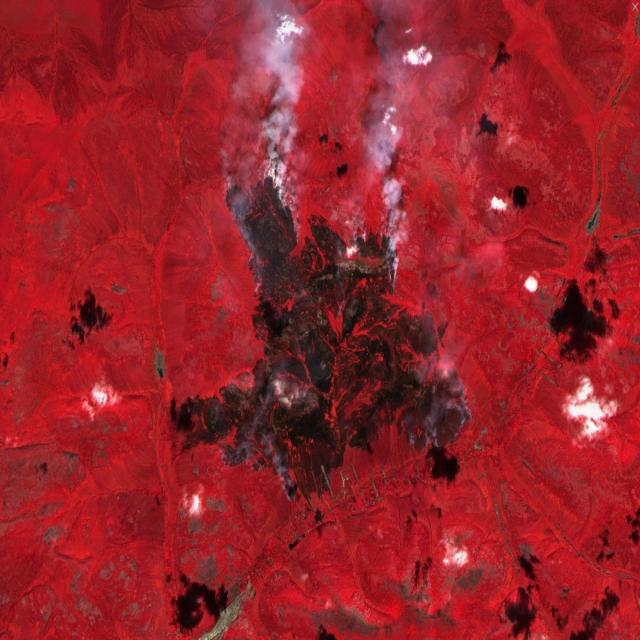fire: (173, 166, 474, 508)
